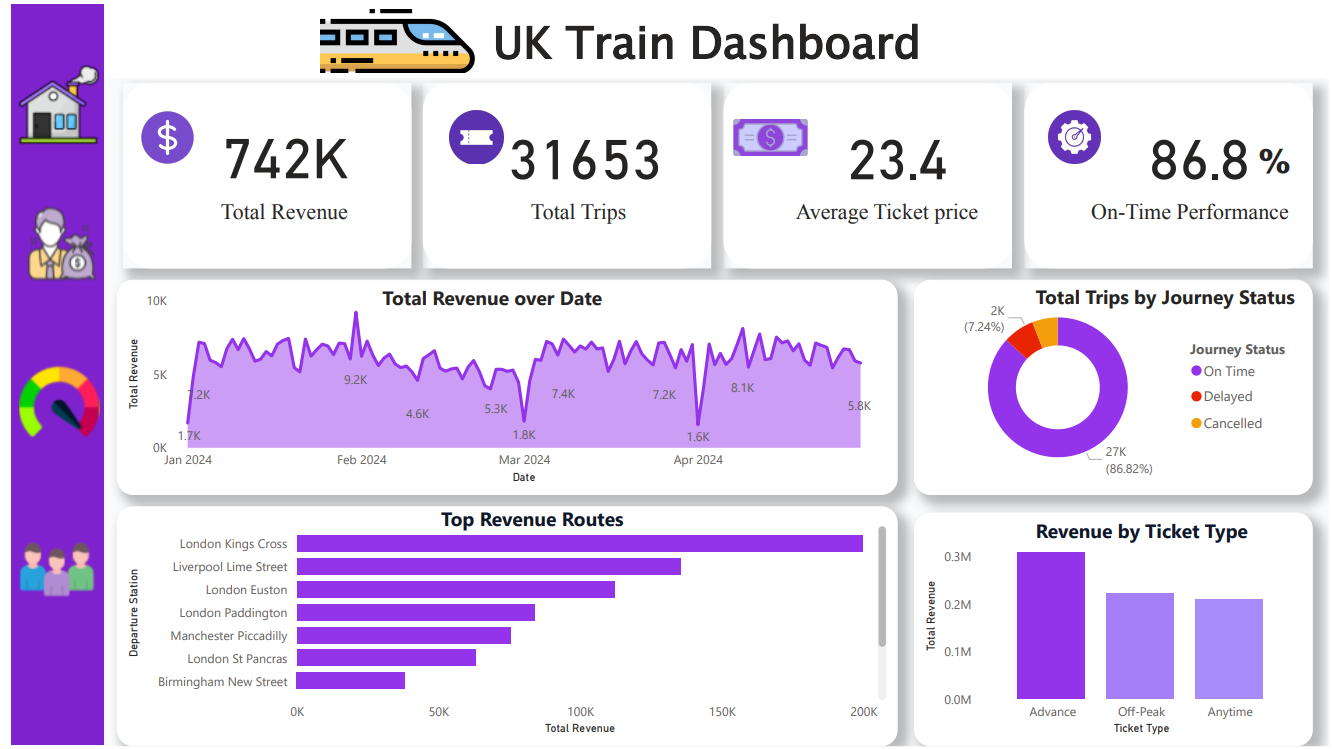

What the dashboard file says about the page in this screenshot:
{"tool":"powerbi","page":{"name":"Page 2","canvas":[1280,720],"ordinal":1},"visuals":[{"type":"shape","box":[108.8,75.6,280,180],"z":0},{"type":"shape","box":[400.4,75.6,280,180],"z":1000},{"type":"shape","box":[692.1,75.6,280,180],"z":2000},{"type":"shape","box":[983.8,75.6,280,180],"z":3000},{"type":"shape","box":[90.4,0,1190.4,71.2],"z":4000},{"type":"shape","box":[0,0,90.4,719.2],"z":5000},{"type":"textbox","box":[462.5,0,481.2,82.5],"z":6000},{"type":"actionButton","box":[0,51.2,121.2,92.5],"z":7000},{"type":"actionButton","box":[0,172.5,100,117.5],"z":8000},{"type":"actionButton","box":[5,342.5,90,85],"z":9000},{"type":"actionButton","box":[0,503.8,100,88.8],"z":10000},{"type":"image","box":[296.2,0,166.2,71.2],"z":11000},{"type":"image","box":[121.2,97.5,61.2,61.2],"z":12000},{"type":"image","box":[421.2,97.5,61.2,61.2],"z":13000},{"type":"image","box":[691.4,105.7,92.9,45.7],"z":14000},{"type":"image","box":[1001.2,97.5,61.2,61.2],"z":15000},{"type":"card","fields":{"Values":["Measures .Total Revenue"]},"box":[108.6,35.7,315.7,212.9],"z":16000},{"type":"textbox","box":[198.6,184.3,158.6,47.1],"z":17000},{"type":"card","fields":{"Values":["Measures .Total Trips"]},"box":[400,37.1,315.7,212.9],"z":18000},{"type":"textbox","box":[500,184.3,158.6,47.1],"z":19000},{"type":"textbox","box":[757.1,184.3,227.1,47.1],"z":20000},{"type":"textbox","box":[1044.3,184.3,220,37.1],"z":21000},{"type":"card","fields":{"Values":["Measures .Average Ticket price"]},"box":[702.9,37.1,315.7,212.9],"z":22000},{"type":"card","fields":{"Values":["Measures .On-Time Performance %"]},"box":[1054.3,37.1,200,212.9],"z":23000},{"type":"stackedAreaChart","fields":{"Y":["Measures .Total Revenue"],"Category":["Dim Date.Date"]},"box":[102.9,267.1,758.6,208.6],"z":24000},{"type":"textbox","box":[355.7,267.1,290,47.1],"z":25000},{"type":"donutChart","fields":{"Category":["Dim Journey status.Journey Status"],"Y":["Measures .Total Trips"]},"box":[877.1,267.1,387.1,208.6],"z":26000},{"type":"textbox","box":[990,265.7,290,47.1],"z":27000},{"type":"clusteredBarChart","fields":{"Category":["Dim Departure station.Departure Station"],"Y":["Measures .Total Revenue"]},"box":[102.9,487.1,758.6,232.9],"z":28000},{"type":"columnChart","fields":{"Y":["Measures .Total Revenue"],"Category":["Dim Ticket Type.Ticket Type"]},"box":[877.1,492.9,387.1,227.1],"z":29000},{"type":"textbox","box":[990,492.9,290,47.1],"z":30000},{"type":"textbox","box":[412.9,481.4,290,58.6],"z":31000},{"type":"textbox","box":[1205.7,122.9,48.6,71.4],"z":32000}]}

Visuals, with their boxes in screenshot pixels (x1, y1, x2, y2), scaled from the page's 1280x720 canvas onto the 1332x749 screenshot:
shape: [x1=113, y1=79, x2=405, y2=266]
shape: [x1=417, y1=79, x2=708, y2=266]
shape: [x1=720, y1=79, x2=1012, y2=266]
shape: [x1=1024, y1=79, x2=1315, y2=266]
shape: [x1=94, y1=0, x2=1331, y2=74]
shape: [x1=0, y1=0, x2=94, y2=748]
textbox: [x1=481, y1=0, x2=982, y2=86]
actionButton: [x1=0, y1=53, x2=126, y2=149]
actionButton: [x1=0, y1=179, x2=104, y2=302]
actionButton: [x1=5, y1=356, x2=99, y2=445]
actionButton: [x1=0, y1=524, x2=104, y2=616]
image: [x1=308, y1=0, x2=481, y2=74]
image: [x1=126, y1=101, x2=190, y2=165]
image: [x1=438, y1=101, x2=502, y2=165]
image: [x1=719, y1=110, x2=816, y2=157]
image: [x1=1042, y1=101, x2=1106, y2=165]
card - Measures .Total Revenue: [x1=113, y1=37, x2=442, y2=259]
textbox: [x1=207, y1=192, x2=372, y2=241]
card - Measures .Total Trips: [x1=416, y1=39, x2=745, y2=260]
textbox: [x1=520, y1=192, x2=685, y2=241]
textbox: [x1=788, y1=192, x2=1024, y2=241]
textbox: [x1=1087, y1=192, x2=1316, y2=230]
card - Measures .Average Ticket price: [x1=731, y1=39, x2=1060, y2=260]
card - Measures .On-Time Performance %: [x1=1097, y1=39, x2=1305, y2=260]
stackedAreaChart - Measures .Total Revenue x Dim Date.Date: [x1=107, y1=278, x2=896, y2=495]
textbox: [x1=370, y1=278, x2=672, y2=327]
donutChart - Dim Journey status.Journey Status x Measures .Total Trips: [x1=913, y1=278, x2=1316, y2=495]
textbox: [x1=1030, y1=276, x2=1331, y2=325]
clusteredBarChart - Dim Departure station.Departure Station x Measures .Total Revenue: [x1=107, y1=507, x2=896, y2=748]
columnChart - Measures .Total Revenue x Dim Ticket Type.Ticket Type: [x1=913, y1=513, x2=1316, y2=748]
textbox: [x1=1030, y1=513, x2=1331, y2=562]
textbox: [x1=430, y1=501, x2=731, y2=562]
textbox: [x1=1255, y1=128, x2=1305, y2=202]
